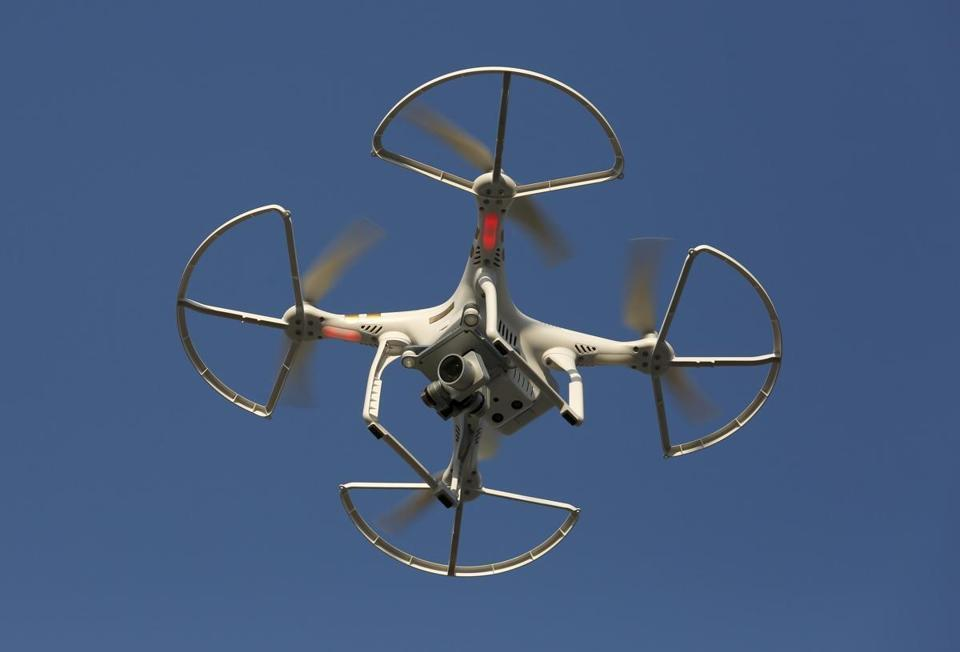UAV: (848, 100, 960, 652)
